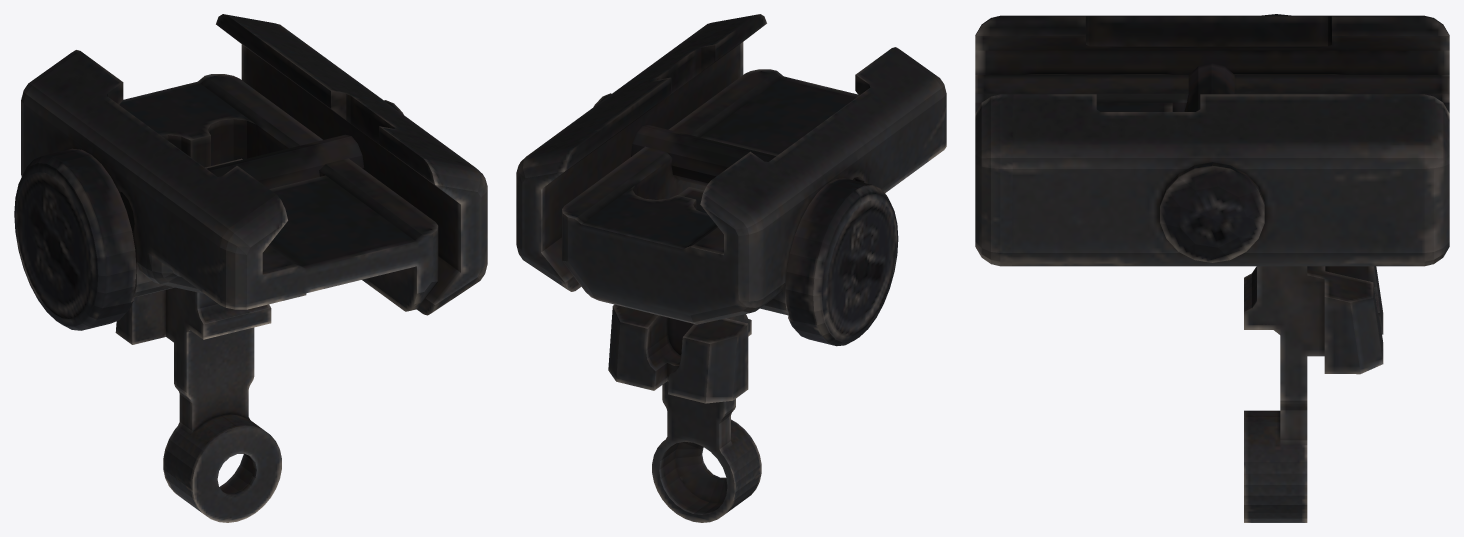
The picture shows the model from 3 angles, left to right: view 1: azimuth 30°, elevation 25°; view 2: azimuth 150°, elevation 25°; view 3: azimuth 270°, elevation 25°; orthographic projection. The views are drawn at different scales.
Visible parts, largest first — view 1: TW_5ba26b17d4351e00367f9bdd_PZ_Import; view 2: TW_5ba26b17d4351e00367f9bdd_PZ_Import; view 3: TW_5ba26b17d4351e00367f9bdd_PZ_Import.
Part boxes in pixels (left/top/right/bottom): TW_5ba26b17d4351e00367f9bdd_PZ_Import: left=14, top=14, right=487, bottom=522; TW_5ba26b17d4351e00367f9bdd_PZ_Import: left=516, top=14, right=946, bottom=522; TW_5ba26b17d4351e00367f9bdd_PZ_Import: left=975, top=14, right=1449, bottom=522.
Size of the model in its own units: 0.0209 by 0.025 by 0.0269.
Materials: 1 (1 with a texture image).
